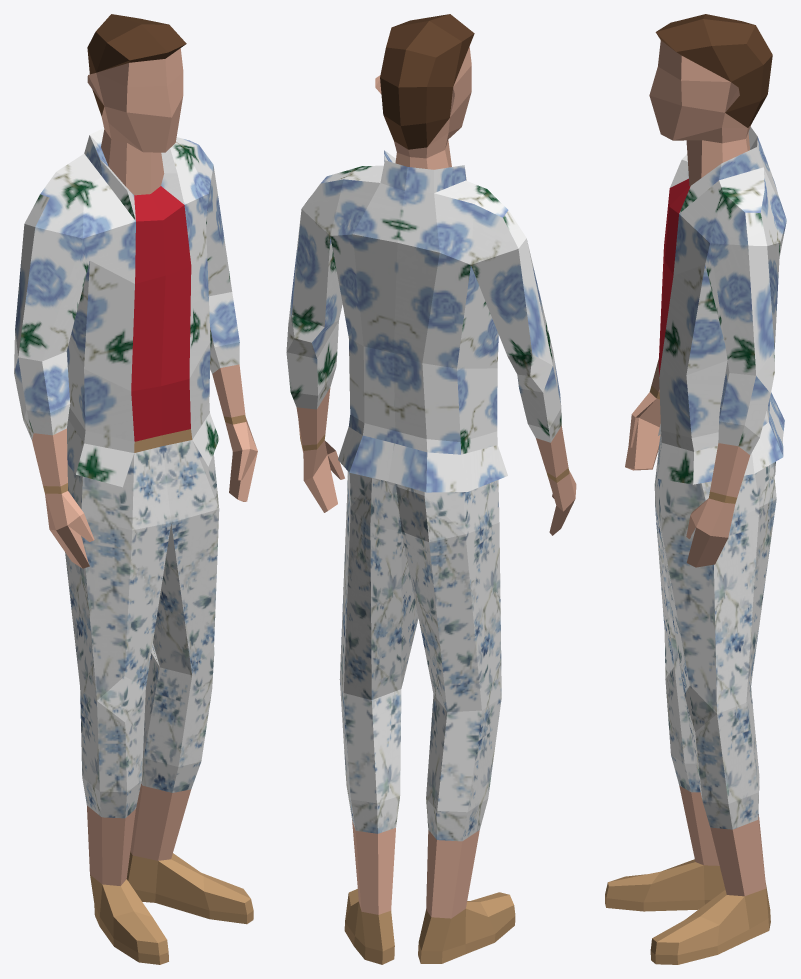
The model's file is SpringManC.006.glb.
The picture shows the model from 3 angles, left to right: view 1: azimuth 30°, elevation 25°; view 2: azimuth 150°, elevation 25°; view 3: azimuth 270°, elevation 25°; orthographic projection. The views are drawn at different scales.
Parts seen in each view (by area): view 1: SpringManC.007; view 2: SpringManC.007; view 3: SpringManC.007.
Part boxes in pixels (left/top/right/bottom): SpringManC.007: left=14, top=14, right=257, bottom=964; SpringManC.007: left=286, top=14, right=576, bottom=964; SpringManC.007: left=605, top=14, right=786, bottom=964.
Bounding box in the file's own units: 0.4822 × 1.75 × 0.3191.
Materials: 1 (1 with a texture image).
